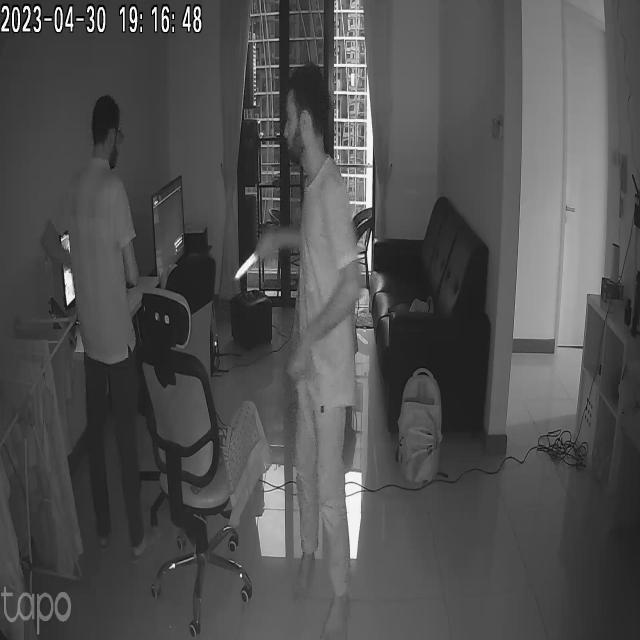Knife: (232, 237, 278, 291)
